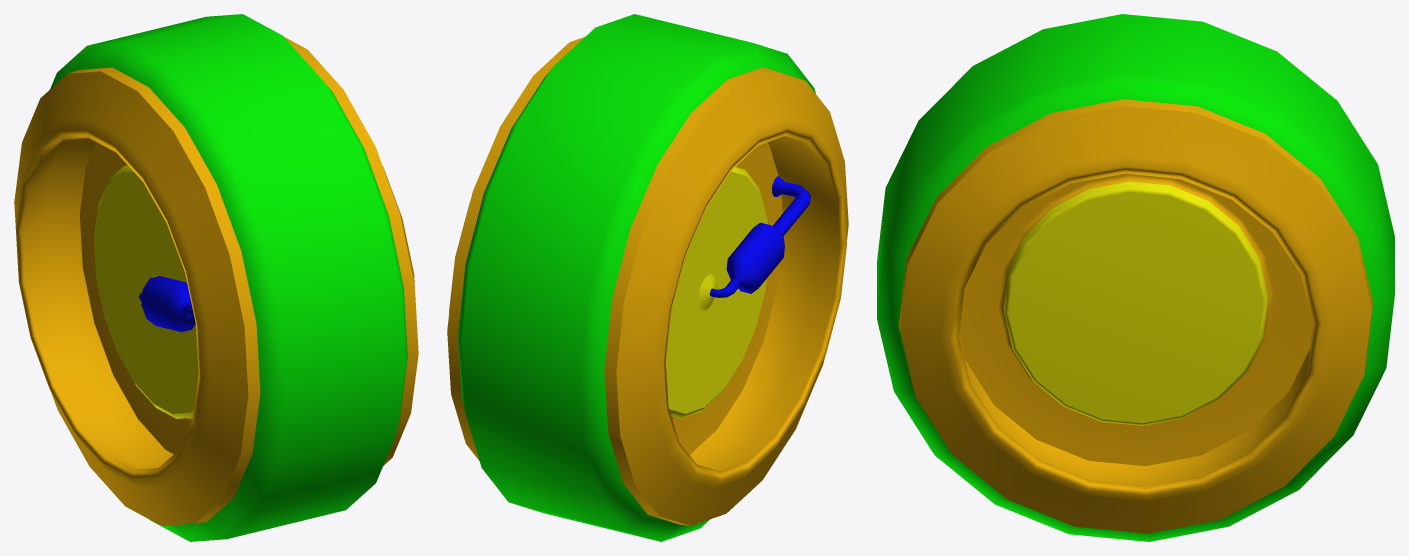
Rendered from Vehicle2WheelSingular.fbx.
3 views of the same model, side by side, from view 1: azimuth 30°, elevation 25°; view 2: azimuth 150°, elevation 25°; view 3: azimuth 270°, elevation 25° (orthographic).
Visible parts, largest first — view 1: Vehicle1WheelSingular; view 2: Vehicle1WheelSingular; view 3: Vehicle1WheelSingular.
Boxes of the visible parts, x1,y1,x2,y2 form: Vehicle1WheelSingular: (14, 14, 418, 541); Vehicle1WheelSingular: (447, 14, 848, 541); Vehicle1WheelSingular: (877, 14, 1394, 541).
Size of the model in its own units: 60.76 by 125 by 125.
